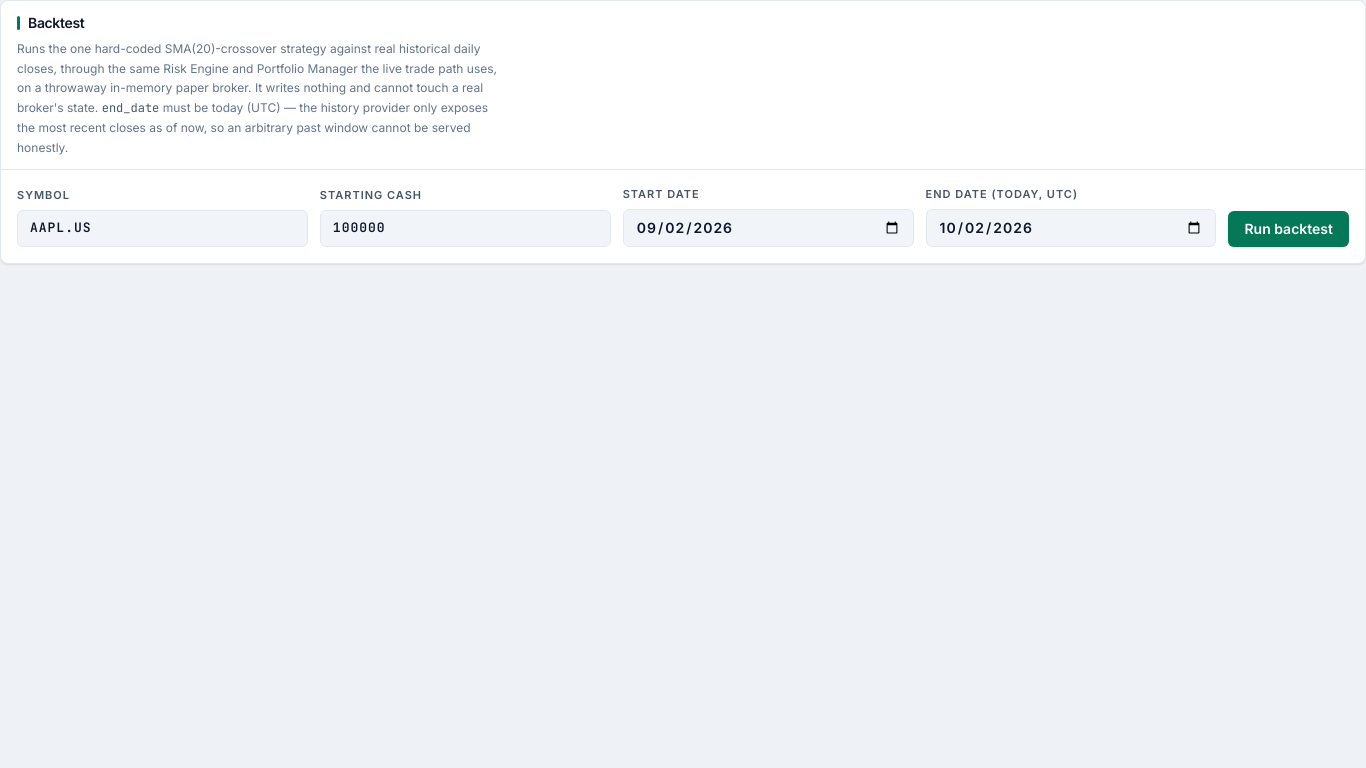
Test case: BacktestPanel › renders the real equity curve and headline metrics
Click the button "Run backtest". click: x=1289, y=228
box: [1228,210,1349,246]
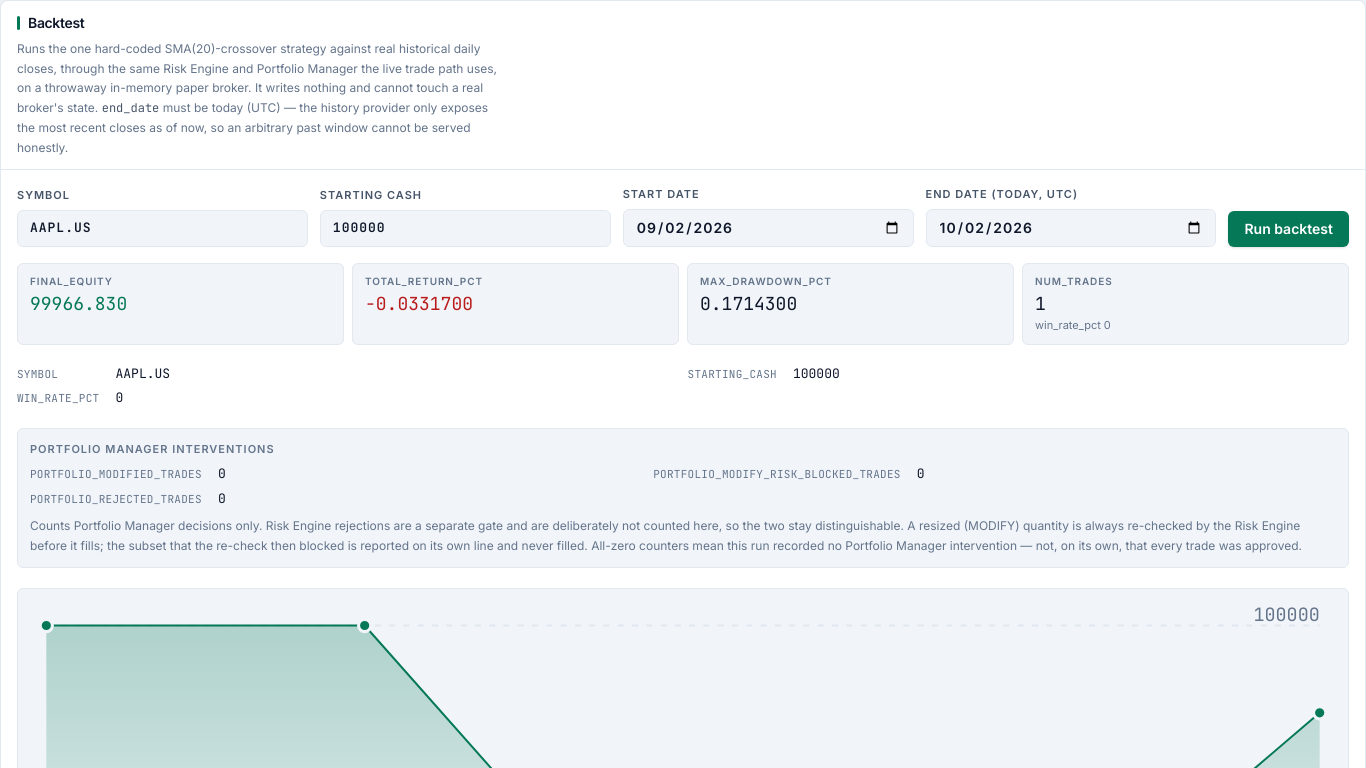
Expected: the text with test id "bt-final-equity" reads "99966.830", [30,292,127,314]
Expected: the text with test id "bt-total-return" reads "-0.0331700", [365,292,473,314]
Expected: the text with test id "bt-num-trades" reads "1", [1035,292,1046,314]
